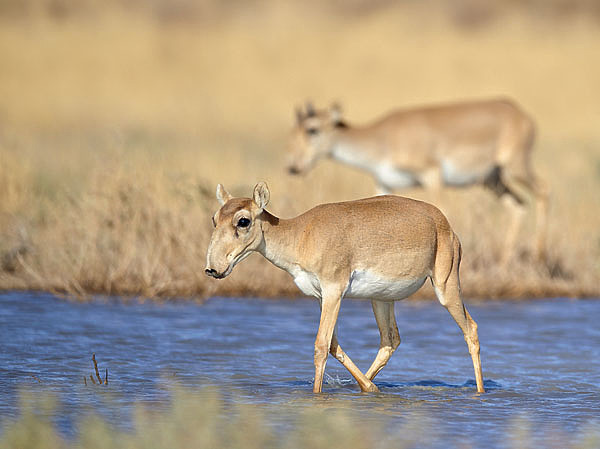saiga: (202, 181, 495, 399)
